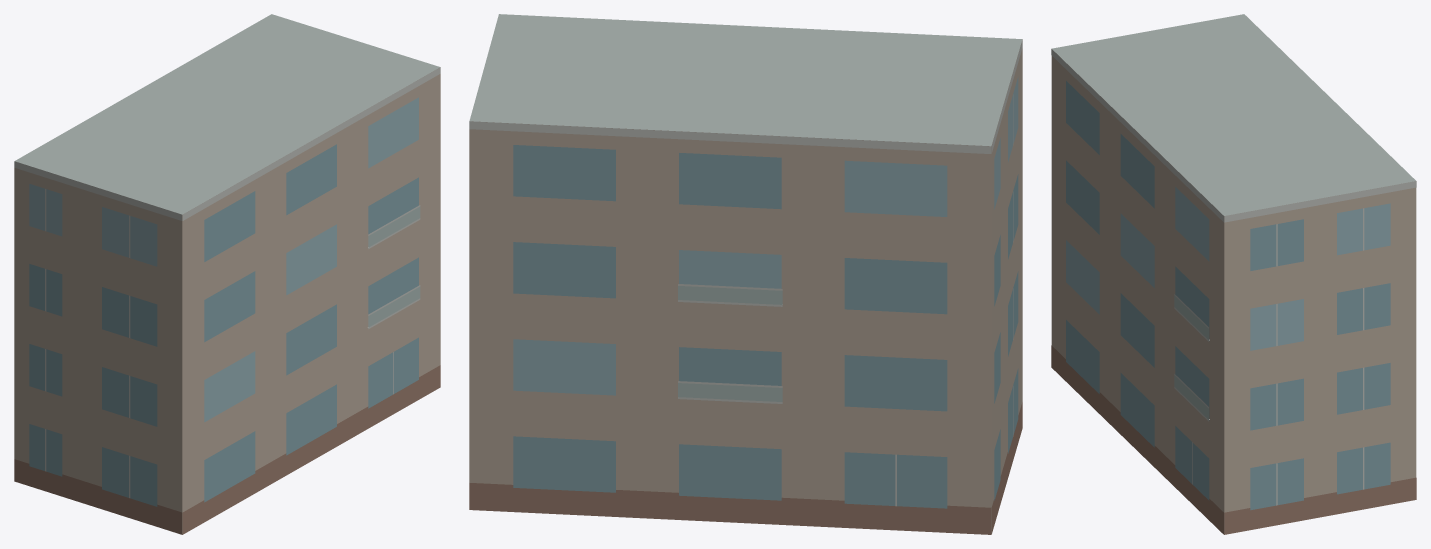
The model's file is survey-upis-32881045.glb.
3 views of the same model, side by side, from view 1: azimuth 30°, elevation 25°; view 2: azimuth 150°, elevation 25°; view 3: azimuth 270°, elevation 25° (orthographic). The views are drawn at different scales.
Visible parts, largest first — view 1: survey-upis-32881045.tmp; view 2: survey-upis-32881045.tmp; view 3: survey-upis-32881045.tmp.
Boxes of the visible parts, <box> form: survey-upis-32881045.tmp: <box>14,14,440,534</box>; survey-upis-32881045.tmp: <box>469,14,1022,534</box>; survey-upis-32881045.tmp: <box>1051,14,1416,534</box>.
Size of the model in its own units: 16.26 by 11.95 by 12.41.
